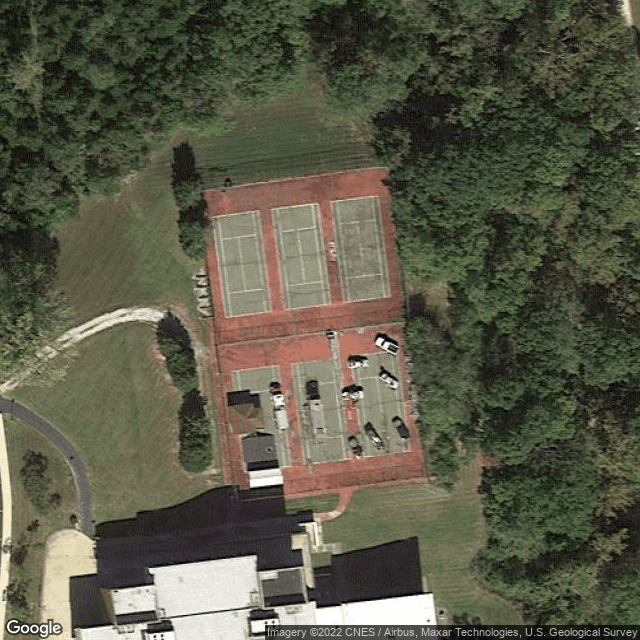Court: (328, 194, 394, 305), (269, 203, 334, 312), (211, 209, 273, 318)
